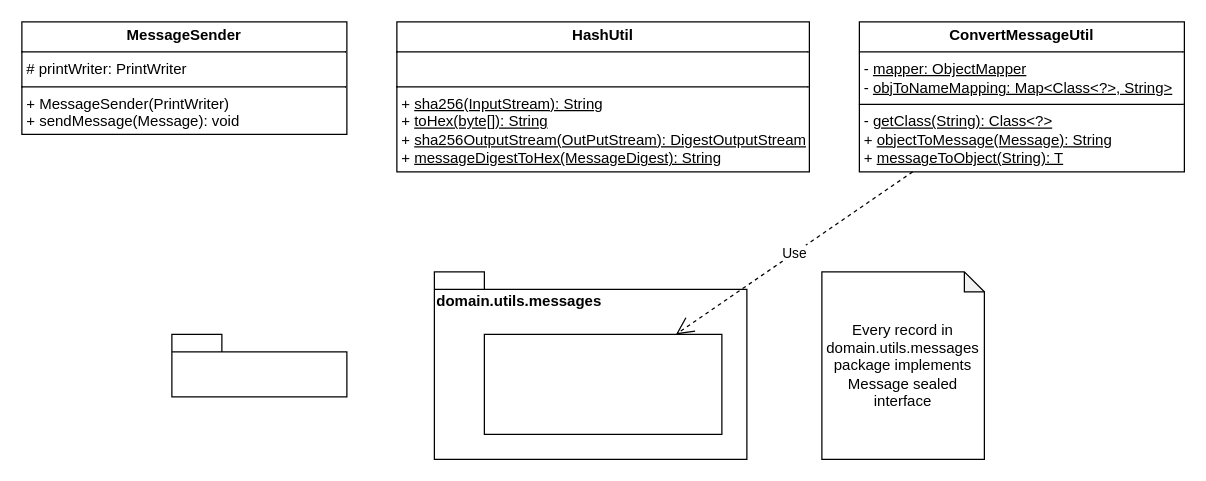
Image size: 1206x481. Some labels were removed from this diagram. Each missing label, with the box of its shape:
<<Interface>> Message: (483, 333, 722, 434)
domain.utils.constants: (171, 333, 347, 397)
